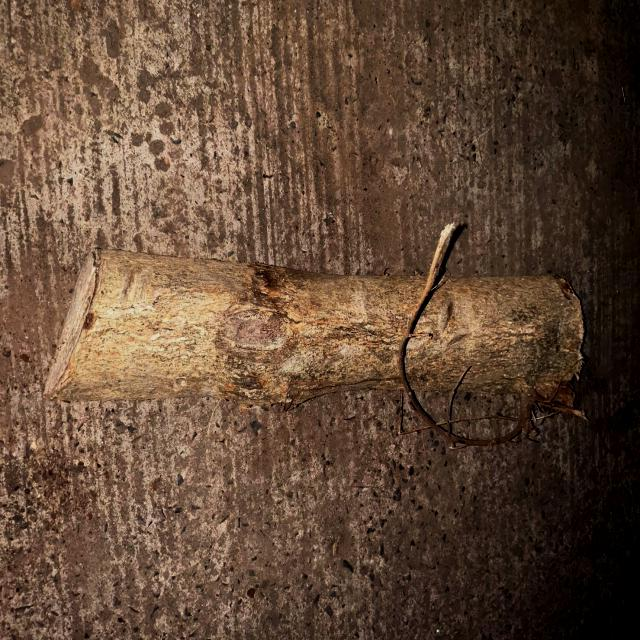General: (3, 2, 637, 637)
Infectious: (43, 223, 589, 444)
Sharps: (394, 218, 590, 451)
